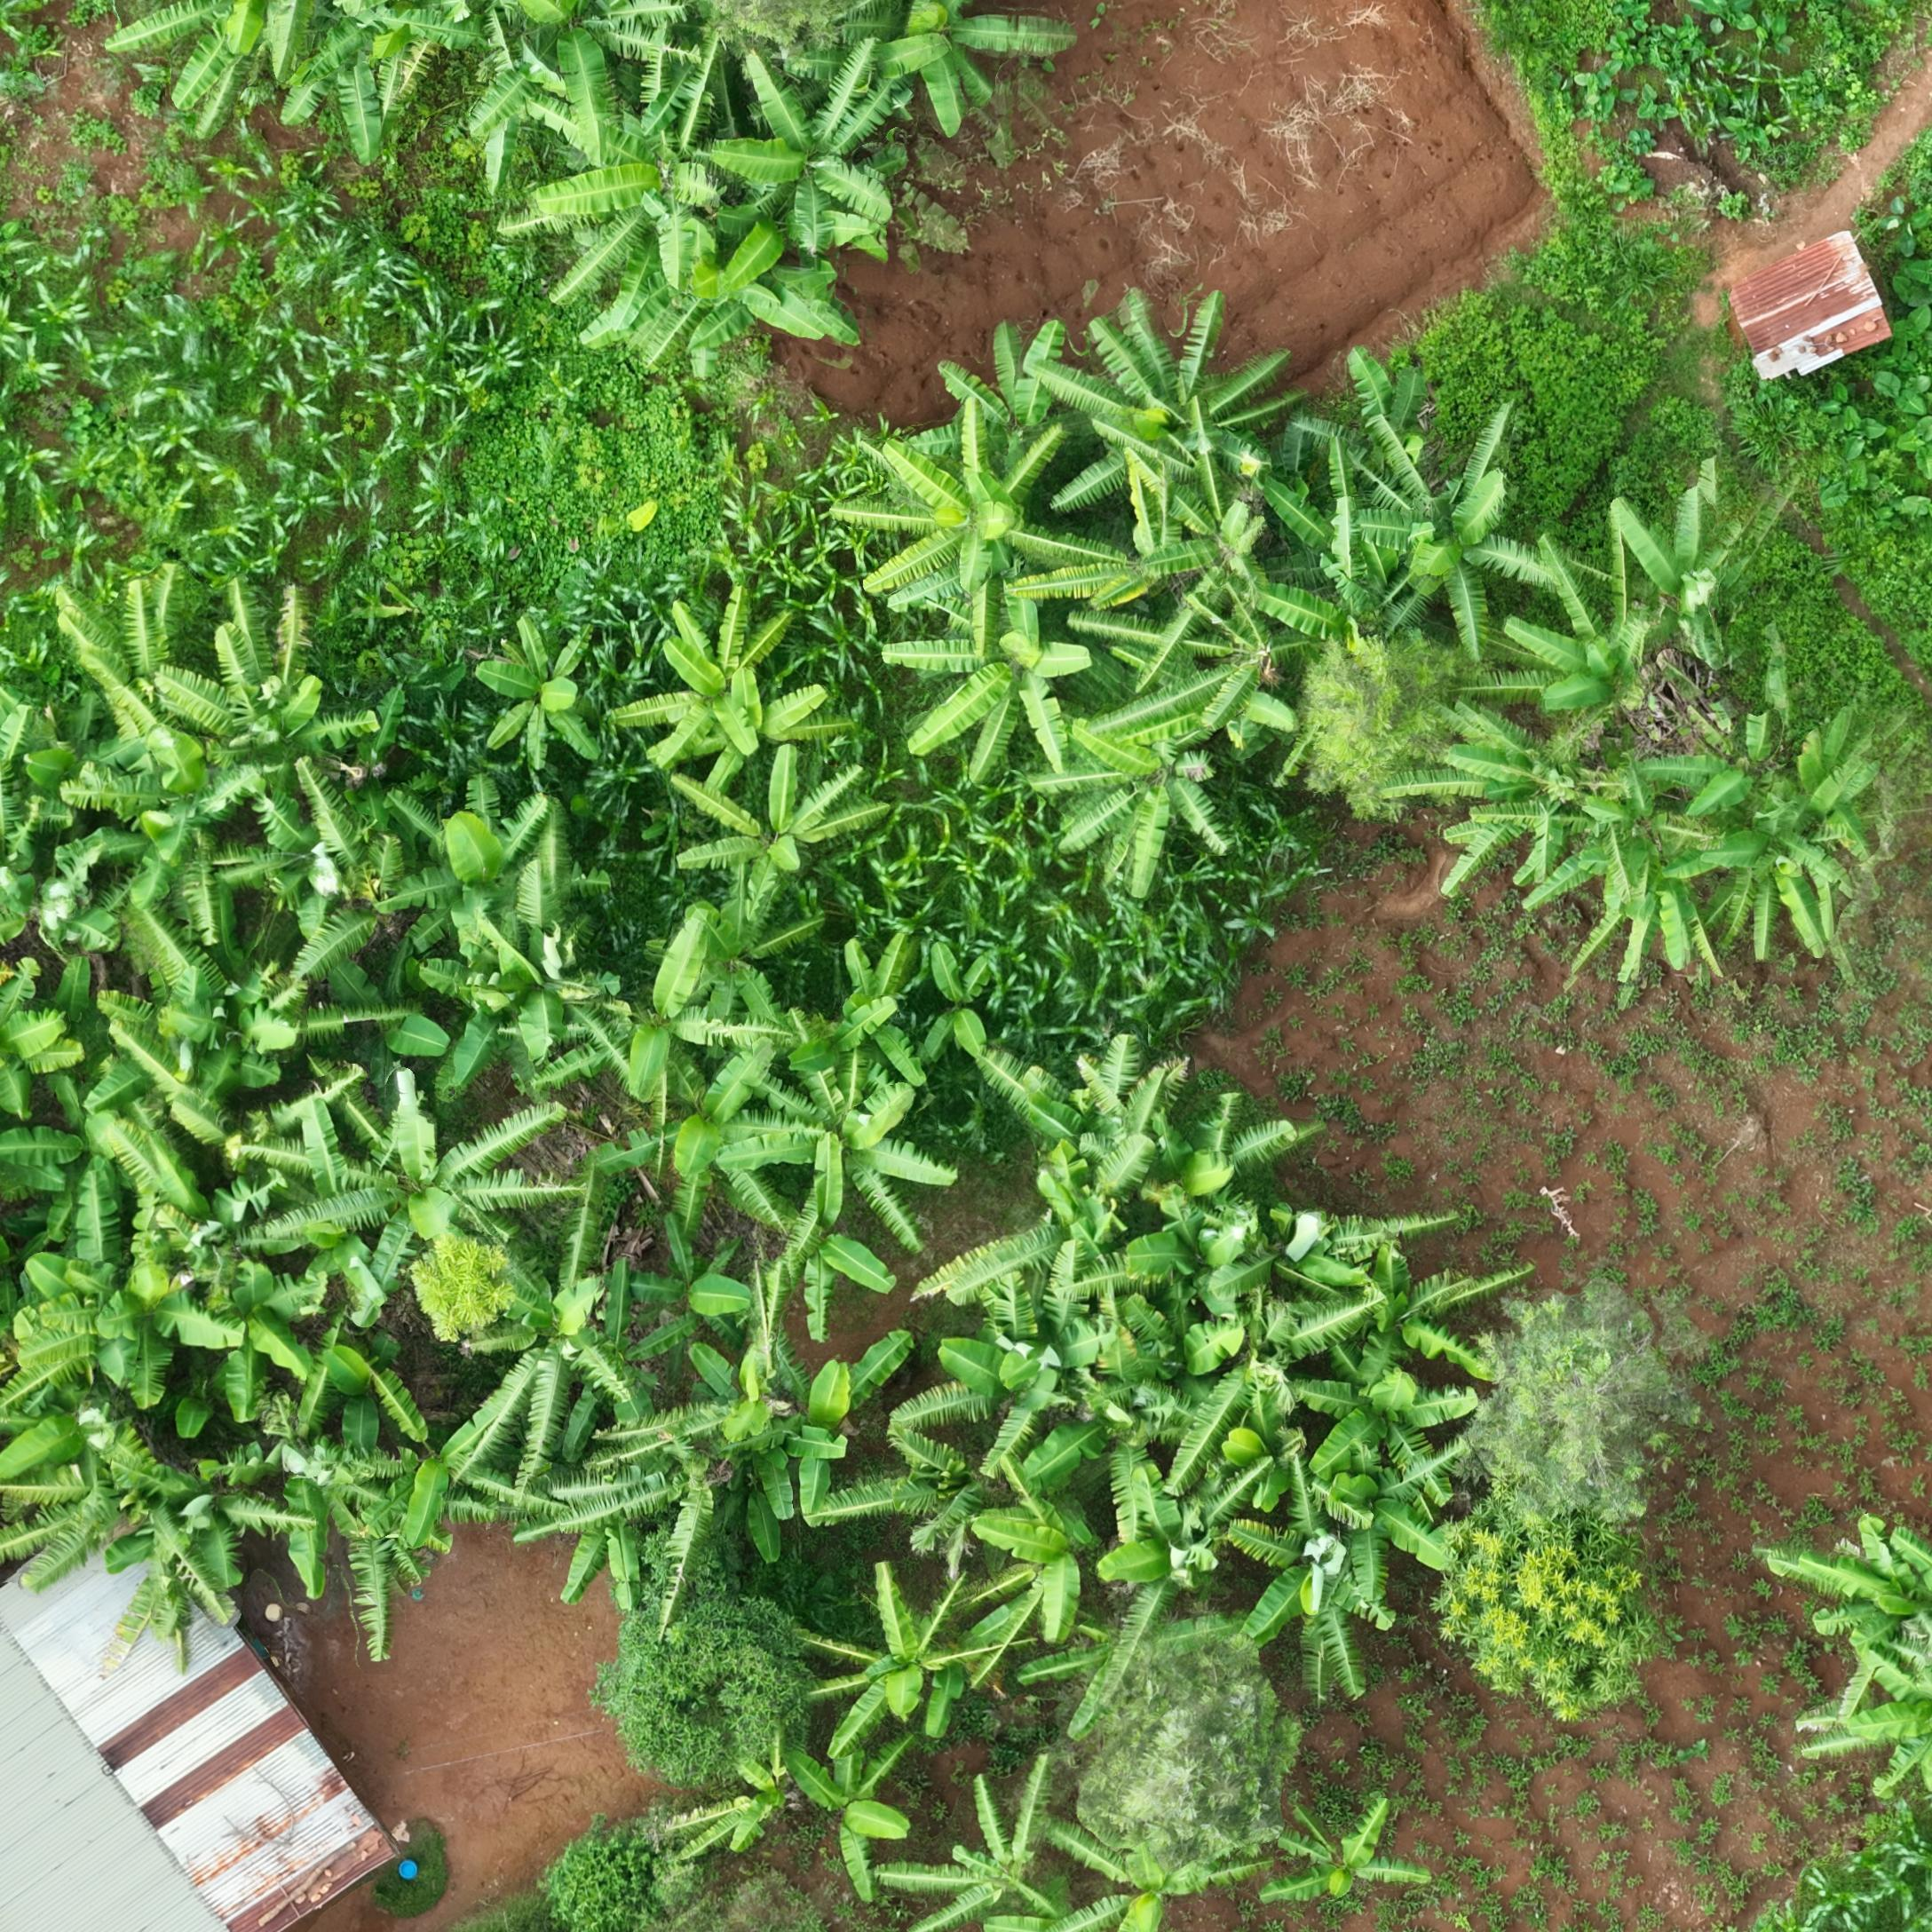Banana: (257, 1115, 609, 1361), (824, 409, 1169, 603), (755, 1040, 993, 1302), (159, 589, 398, 840), (1661, 442, 1881, 713), (1062, 343, 1359, 533), (1260, 1509, 1458, 1773), (142, 929, 416, 1118), (1062, 349, 1355, 522), (805, 1615, 1042, 1824), (1431, 718, 1695, 904), (1182, 494, 1391, 720), (557, 957, 823, 1134), (732, 35, 938, 264), (609, 1079, 832, 1284), (927, 1322, 1162, 1513), (1223, 1327, 1437, 1532), (685, 773, 927, 950), (902, 619, 1134, 801), (423, 950, 646, 1136), (1062, 741, 1286, 924), (398, 801, 633, 975), (1065, 1380, 1244, 1605), (1327, 1292, 1591, 1444), (492, 4, 727, 173), (370, 1426, 594, 1596), (1345, 1484, 1548, 1670), (667, 876, 858, 1069), (1610, 842, 1794, 1042), (939, 1171, 1200, 1311), (287, 5, 492, 180), (566, 122, 752, 311), (704, 1392, 885, 1587), (621, 943, 787, 1152), (734, 1219, 934, 1392), (1727, 844, 1932, 1012), (103, 1488, 327, 1640), (630, 607, 823, 784), (1343, 1369, 1536, 1541), (1568, 531, 1716, 748), (676, 692, 888, 837), (580, 1311, 720, 1525), (94, 1260, 255, 1445), (278, 1134, 403, 1364), (1196, 607, 1376, 759), (1191, 1129, 1353, 1292), (938, 4, 1129, 142), (106, 4, 304, 136), (16, 1208, 133, 1433), (814, 1387, 948, 1578), (50, 598, 209, 757), (1007, 1520, 1138, 1709), (809, 970, 962, 1131), (941, 347, 1129, 476), (1341, 349, 1490, 508), (663, 262, 863, 377), (1010, 1083, 1196, 1205), (897, 1821, 1097, 1932), (495, 14, 619, 189), (11, 1522, 179, 1644), (655, 1247, 780, 1410), (1166, 1231, 1313, 1369), (563, 1500, 678, 1674), (497, 640, 619, 801), (809, 1799, 950, 1932), (1316, 1233, 1502, 1334), (1826, 1541, 1932, 1714), (1081, 1858, 1327, 1932), (7, 1440, 179, 1539), (27, 722, 152, 855), (1844, 1693, 1932, 1872), (665, 1821, 821, 1920), (2, 1000, 92, 1168), (1407, 513, 1509, 660), (4, 888, 134, 1000), (338, 993, 469, 1097), (1299, 1872, 1493, 1932), (955, 978, 1035, 1102), (1859, 732, 1932, 851), (810, 271, 897, 364), (331, 1396, 398, 1506), (182, 1417, 239, 1495), (632, 517, 683, 559)
